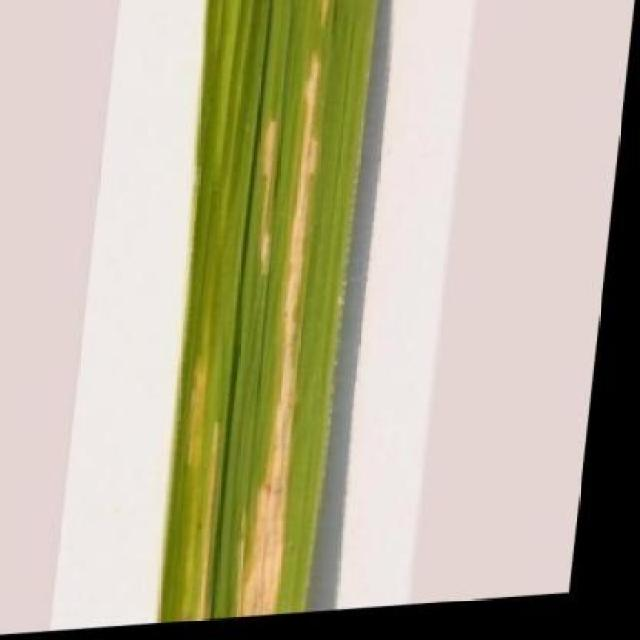Brown_Spot: (144, 0, 388, 628)
